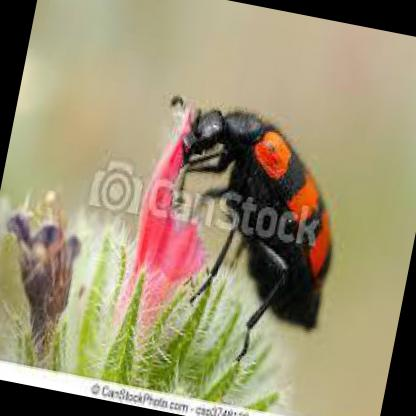blister beetle: (179, 103, 335, 361)
